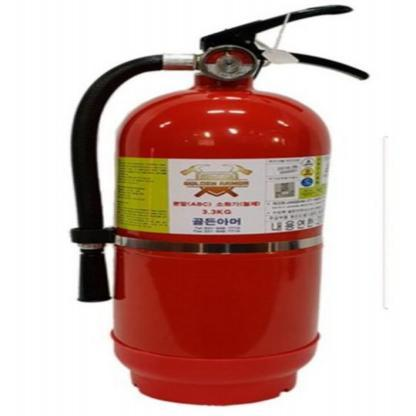Fire Extinguisher: (58, 12, 382, 412)
